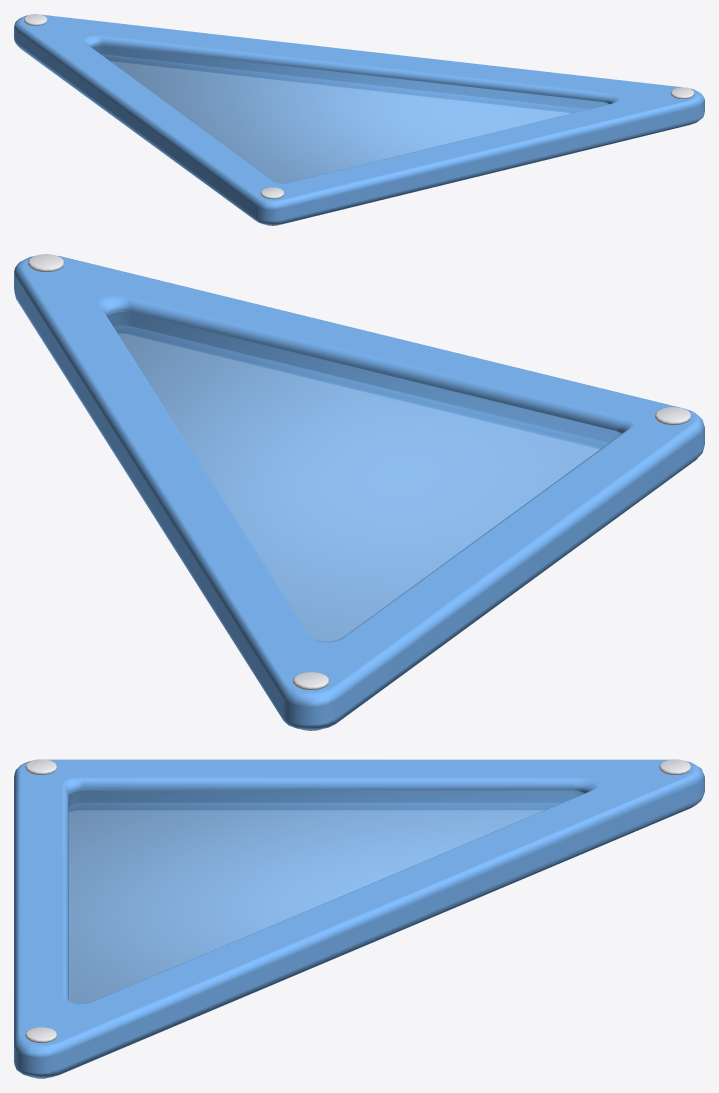
The model's file is right.glb.
3 views of the same model, one above another, from view 1: azimuth 30°, elevation 25°; view 2: azimuth 150°, elevation 25°; view 3: azimuth 270°, elevation 25° (orthographic). The views are drawn at different scales.
Visible parts, largest first — view 1: Frame, Panel, Rivets; view 2: Frame, Panel, Rivets; view 3: Frame, Panel, Rivets.
Part boxes in pixels (x1,y1,x2,y2): Frame: [14, 14, 704, 225]; Panel: [92, 45, 609, 183]; Rivets: [24, 14, 694, 225]; Frame: [14, 256, 704, 730]; Panel: [107, 312, 621, 641]; Rivets: [28, 254, 690, 730]; Frame: [14, 759, 704, 1078]; Panel: [68, 790, 584, 1003]; Rivets: [25, 759, 690, 1078].
Bounding box in the file's own units: 0.9505 × 0.06 × 0.9505.
